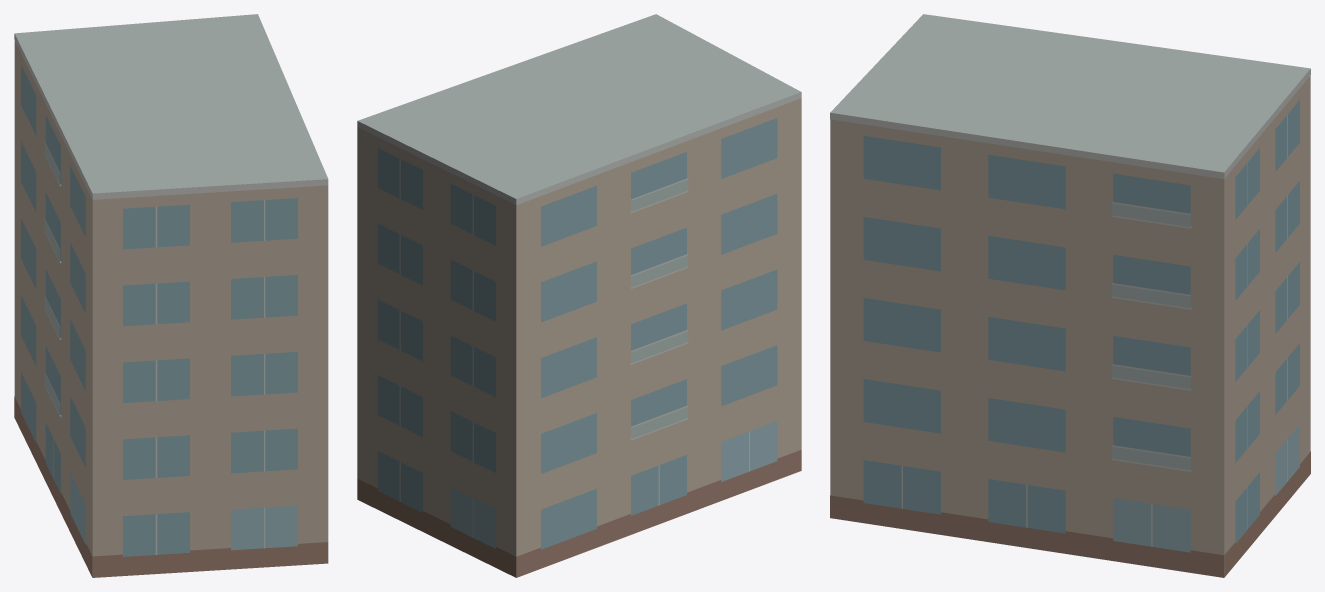
The model's file is survey-upis-32868959.glb.
3 renders of one model, left to right at view 1: azimuth 30°, elevation 25°; view 2: azimuth 150°, elevation 25°; view 3: azimuth 270°, elevation 25°, orthographic. The views are drawn at different scales.
Parts seen in each view (by area): view 1: survey-upis-32868959.tmp; view 2: survey-upis-32868959.tmp; view 3: survey-upis-32868959.tmp.
Boxes of the visible parts, left/top/right/bottom form: survey-upis-32868959.tmp: left=14, top=14, right=328, bottom=577; survey-upis-32868959.tmp: left=357, top=14, right=801, bottom=577; survey-upis-32868959.tmp: left=830, top=14, right=1310, bottom=577.
Bounding box in the file's own units: 12.59 × 15 × 16.13.
